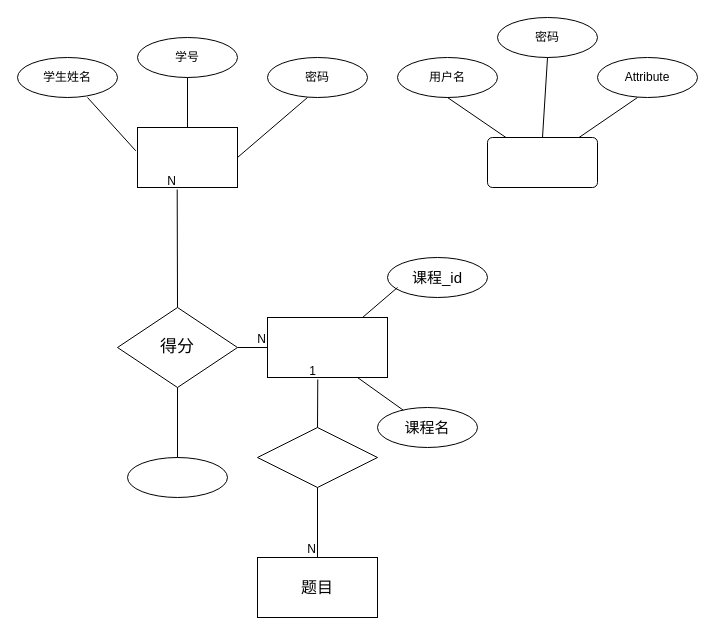
The diagram is 715 pixels wide and 635 high, and some of its shapes have lost their labels. The centre of each missing label's shape, as x and y in pixels:
"分数" goes at (x=177, y=477).
"学生" goes at (x=187, y=157).
"属于" goes at (x=317, y=457).
"管理员" goes at (x=542, y=162).
"课程" goes at (x=327, y=347).
